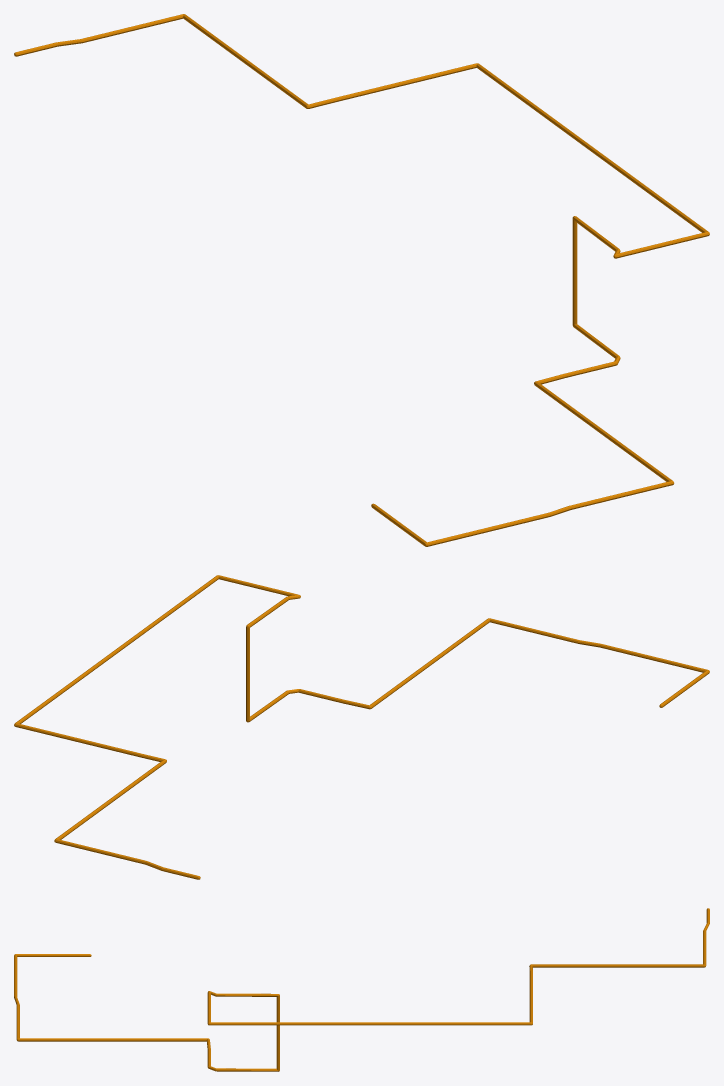
The picture shows the model from 3 angles, top to bottom: view 1: azimuth 30°, elevation 25°; view 2: azimuth 150°, elevation 25°; view 3: azimuth 270°, elevation 25°; orthographic projection. The views are drawn at different scales.
Size of the model in its own units: 2071 by 520 by 4213.
